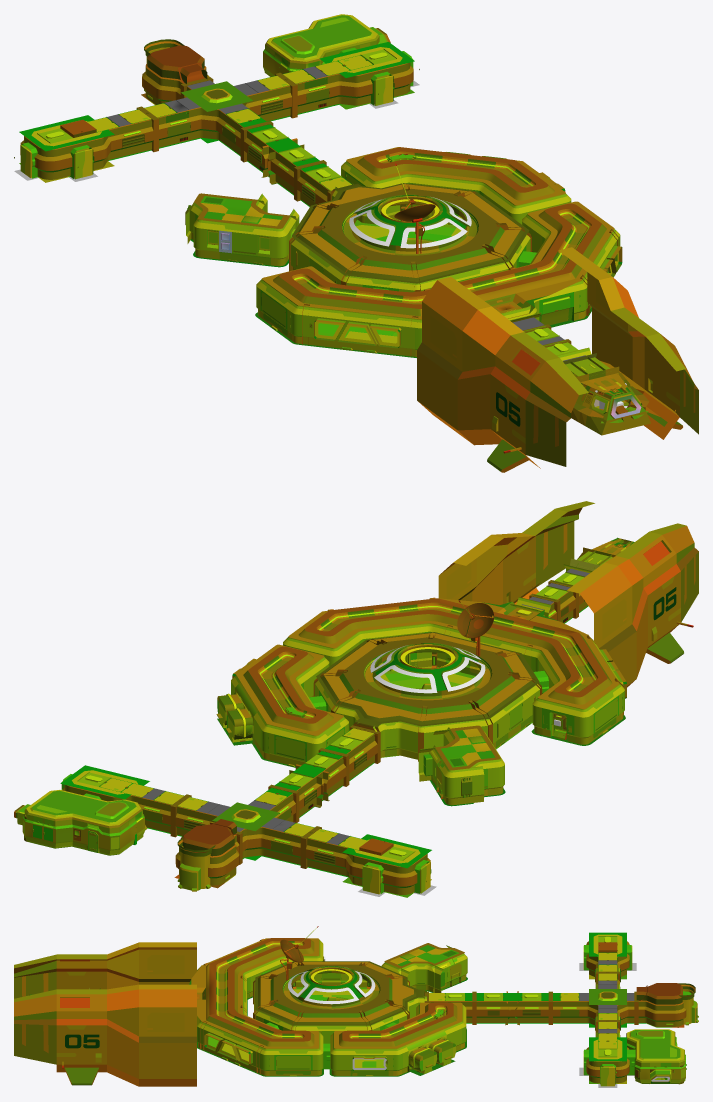
The model's file is level2.gltf.
3 views of the same model, one above another, from view 1: azimuth 30°, elevation 25°; view 2: azimuth 150°, elevation 25°; view 3: azimuth 270°, elevation 25° (orthographic). The views are drawn at different scales.
Parts seen in each view (by area): view 1: front, main_deck, octogonal_room, side_deck, badge_room, long_corridor, door_hub, door_hub_1, bedroom, cockpit, elevator_room, short_corridor_1 (+6 smaller); view 2: front, octogonal_room, main_deck, side_deck, bedroom, badge_room, long_corridor, door_hub, elevator_room, short_corridor_1, short_corridor, corridor_x_junction (+6 smaller); view 3: front, main_deck, octogonal_room, side_deck, long_corridor, badge_room, bedroom, elevator_room, door_hub_1, door_hub, corridor_x_junction, octogonal_ceiling_windows (+5 smaller).
Part boxes in pixels (x1,y1,x2,y2): front: [417, 247, 698, 472]; main_deck: [255, 201, 622, 357]; octogonal_room: [289, 183, 531, 292]; side_deck: [341, 147, 571, 224]; badge_room: [185, 193, 299, 267]; long_corridor: [222, 108, 351, 206]; door_hub: [14, 115, 121, 182]; door_hub_1: [315, 42, 419, 109]; bedroom: [263, 14, 390, 76]; cockpit: [563, 353, 650, 435]; elevator_room: [141, 39, 213, 104]; short_corridor_1: [106, 100, 190, 157]; front: [438, 501, 698, 687]; octogonal_room: [313, 632, 541, 761]; main_deck: [283, 597, 626, 745]; side_deck: [216, 644, 348, 767]; bedroom: [14, 790, 147, 855]; badge_room: [418, 725, 505, 806]; long_corridor: [255, 725, 380, 822]; door_hub: [336, 834, 436, 897]; elevator_room: [174, 819, 242, 891]; short_corridor_1: [270, 820, 349, 874]; short_corridor: [141, 788, 219, 837]; corridor_x_junction: [206, 800, 284, 860]; front: [14, 942, 196, 1086]; main_deck: [189, 938, 326, 1076]; octogonal_room: [253, 961, 426, 1043]; side_deck: [326, 1002, 466, 1076]; long_corridor: [424, 991, 579, 1025]; badge_room: [381, 943, 467, 992]; bedroom: [626, 1029, 686, 1084]; elevator_room: [634, 983, 698, 1027]; door_hub_1: [579, 1033, 634, 1087]; door_hub: [579, 932, 636, 979]; corridor_x_junction: [579, 985, 634, 1027]; octogonal_ceiling_windows: [288, 967, 375, 1004].
Size of what is drawn, in the model's own units: 34.72 by 14.78 by 71.88.
